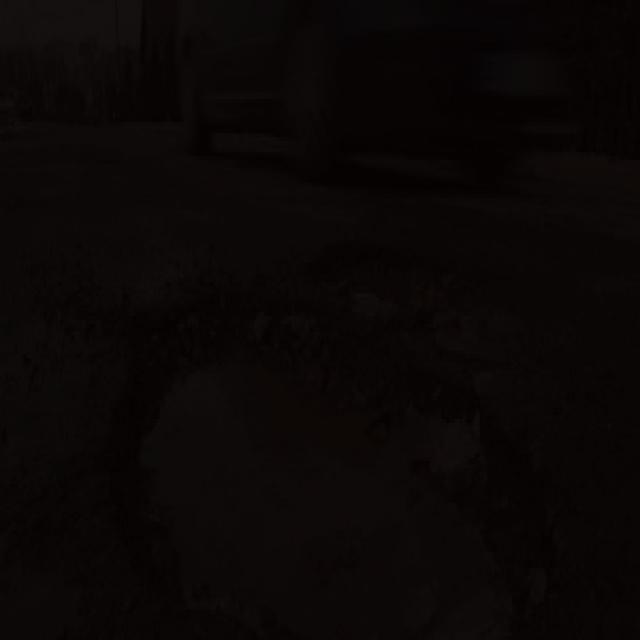Pothole: (58, 272, 570, 640), (317, 242, 462, 329)
